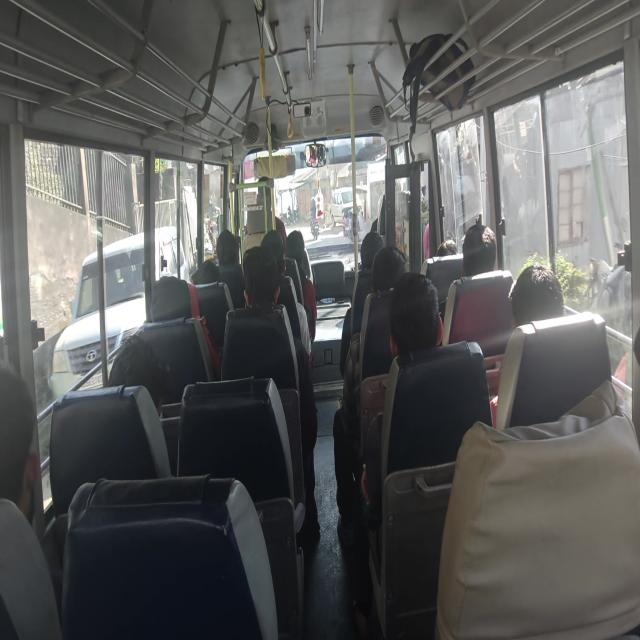person: (353, 271, 444, 636), (242, 245, 320, 539), (333, 242, 408, 547), (494, 263, 627, 432), (0, 364, 61, 638), (489, 263, 565, 424), (260, 230, 312, 364), (0, 364, 41, 529), (389, 271, 443, 357), (285, 229, 317, 343), (508, 263, 564, 328), (461, 222, 497, 276), (215, 229, 243, 277), (437, 239, 458, 256)
